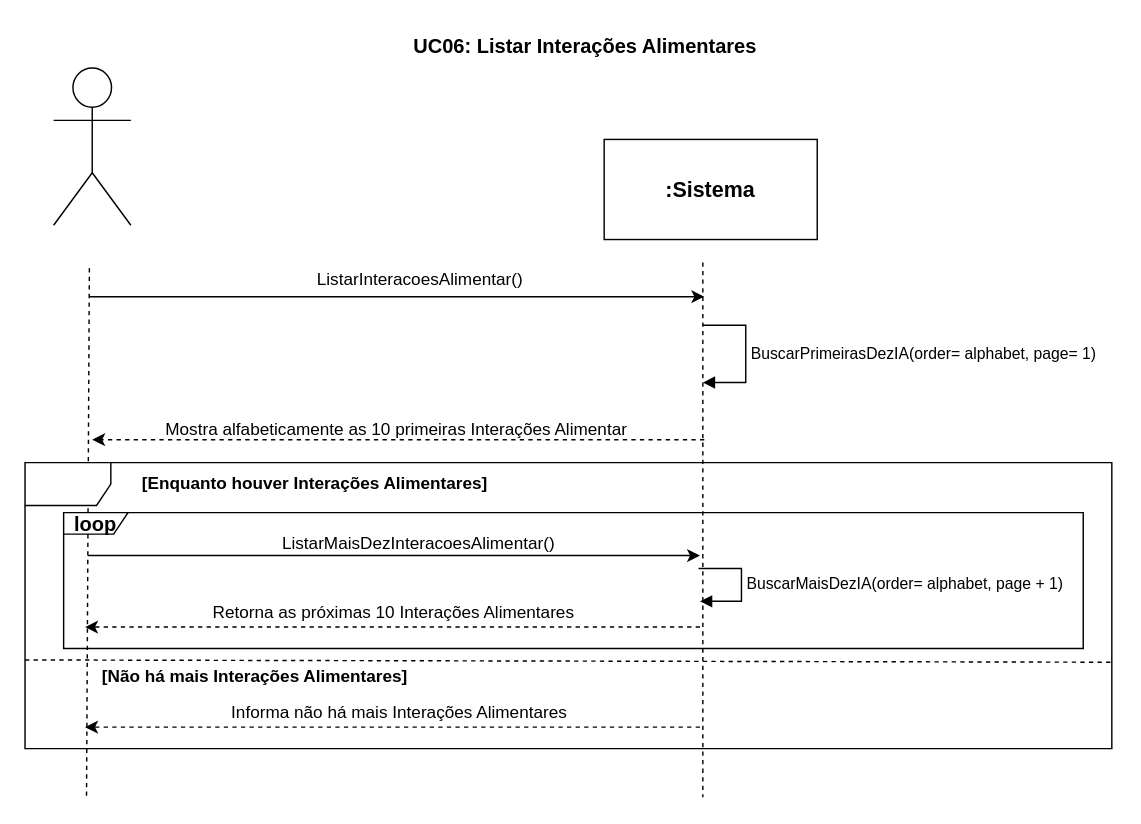
The diagram is 1141 pixels wide and 824 high, and some of its shapes have lost their labels. Here are the shapes that lost their labels. From the top down, the box of each, then its label:
(52, 66, 131, 225): :Administrador
(24, 461, 1112, 749): alt
